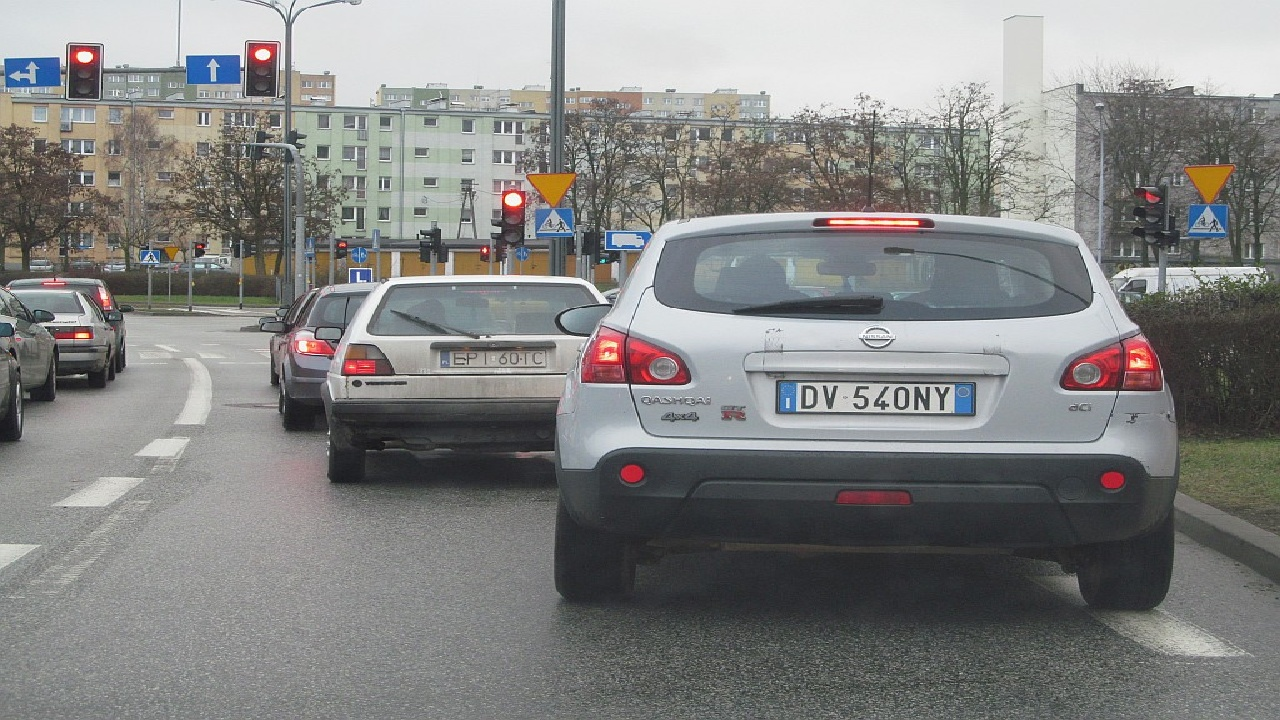A7: (1183, 164, 1236, 203), (527, 172, 577, 205), (164, 246, 179, 260)
D6: (141, 249, 160, 264)
D6b: (1188, 204, 1228, 237), (535, 208, 574, 237)
Red: (1142, 184, 1163, 243), (503, 191, 524, 244), (75, 44, 95, 99), (252, 42, 273, 94)
